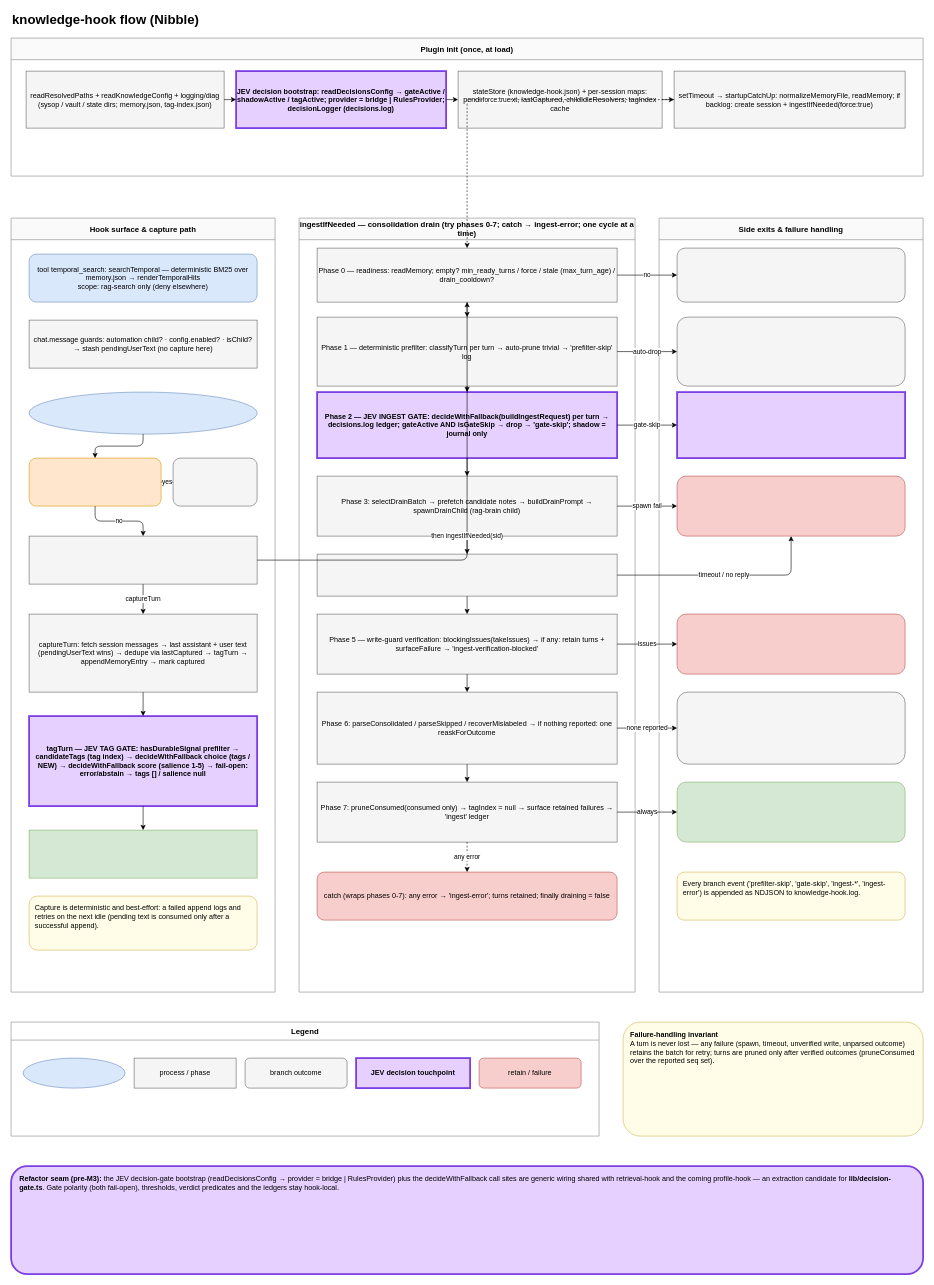
This 934x1285 diagram has some shape labels left out. Each missing label, with the centre of its shape:
"'ingest' ledger: batch, outcome, gateDropped, overshoot, durationMs" goes at point 790,812.
"'ingest-reask' → re-parse; still unnamed turns → retain" goes at point 790,728.
"'ingest-verification-blocked' → surface + retain (no prune)" goes at point 790,644.
"event session.idle (top-level)" goes at point 142,413.
"gate-skip → pruneConsumed + 'gate-skip' (shadow: journal only, ingest all)" goes at point 791,425.
"guards: automation child? · config.enabled? · isChild? → else silent return" goes at point 142,560.
"hook entry / start" goes at point 73,1073.
"memory.json entry: {session, ts, user, assistant, tags, salience, newTag, hash}" goes at point 142,854.
"Phase 4: waitForChildIdle → getChildReply (DRAIN_TIMEOUT_MS)" goes at point 466,575.
"readiness not met / empty → return (no cycle)" goes at point 790,275.
"resolve waiter → stop" goes at point 214,482.
"spawn failed / child timeout / no reply → recordFailure + retain turns" goes at point 790,506.
"trivial turns → pruneConsumed + 'prefilter-skip'" goes at point 790,351.
"waiter for an awaited drain-child idle?" goes at point 94,482.
